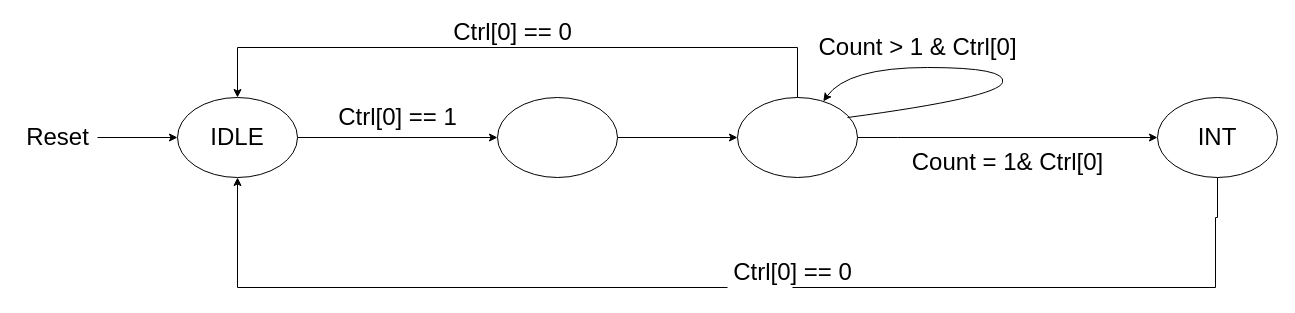
This 1295x313 diagram has some shape labels left out. Here are the shapes that lost their labels. From the top down, the centre of each, then its label:
At (x=557, y=137): "LOAD".
At (x=797, y=137): "CNT".
